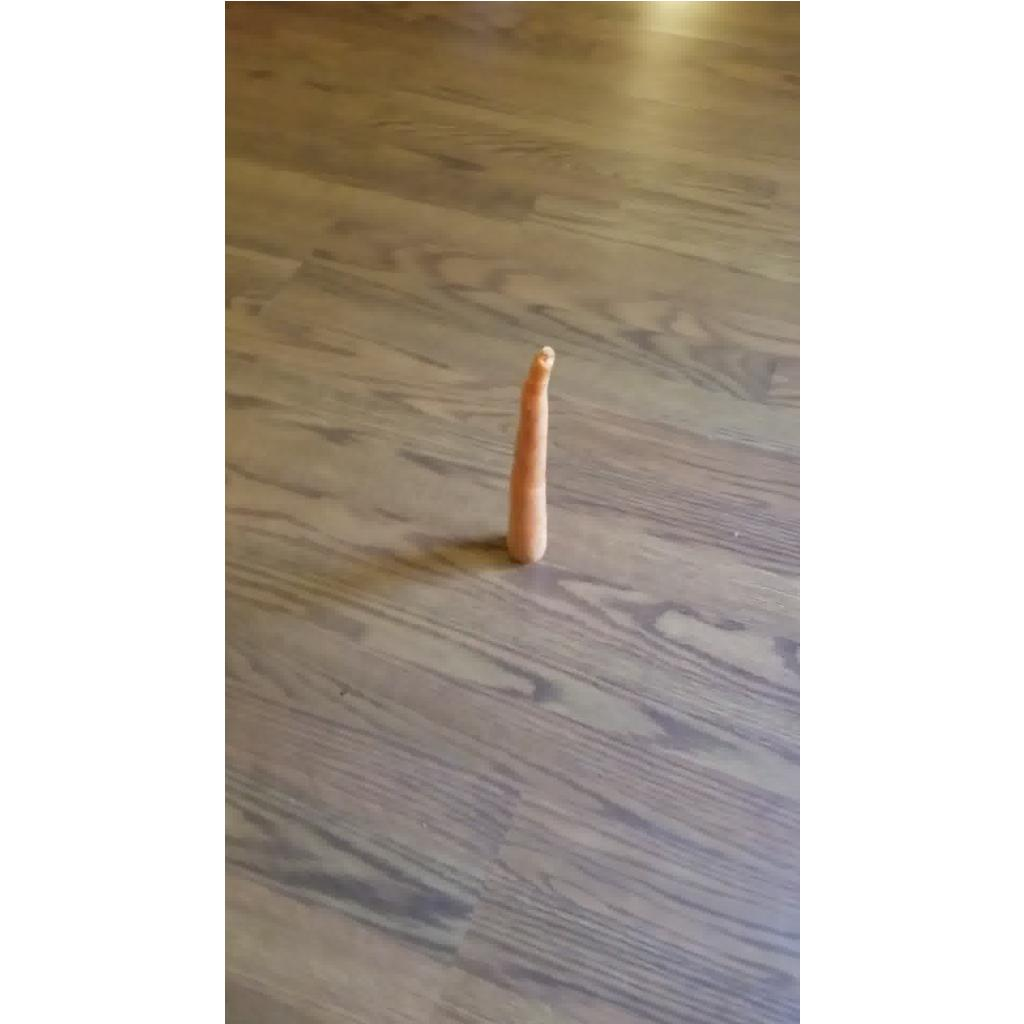carrot: (506, 346, 554, 564)
